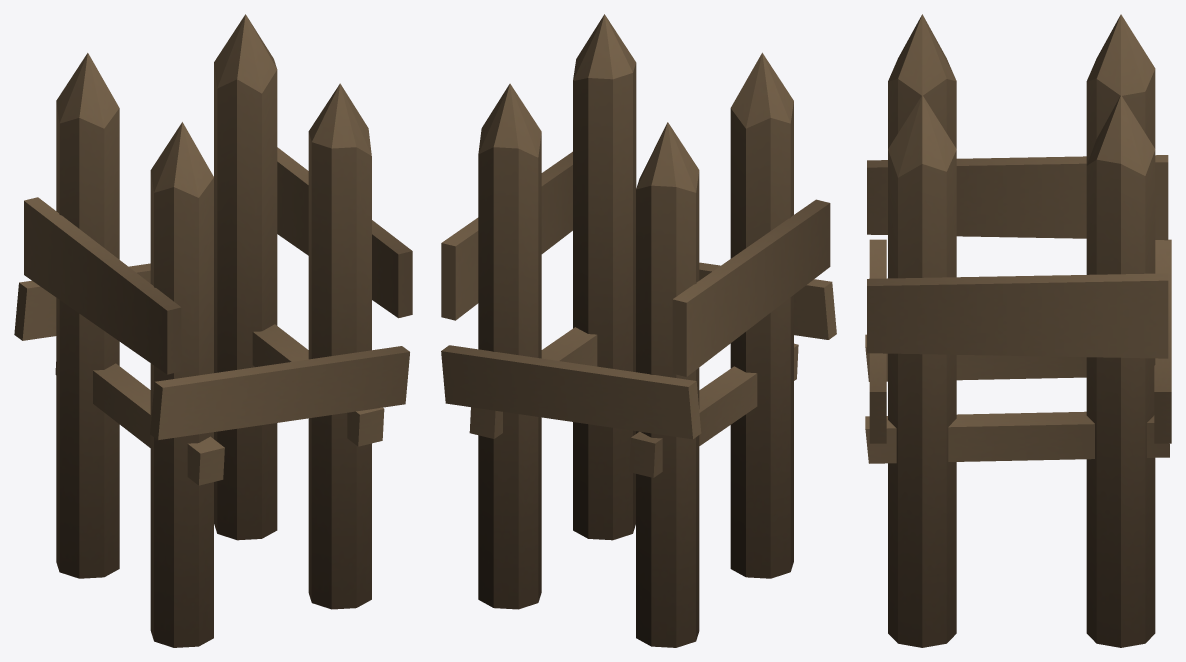
Rendered from ZLP_Build_D_24.FBX.
3 renders of one model, left to right at view 1: azimuth 30°, elevation 25°; view 2: azimuth 150°, elevation 25°; view 3: azimuth 270°, elevation 25°, orthographic. The views are drawn at different scales.
Parts seen in each view (by area): view 1: ZLP_Build_D_24; view 2: ZLP_Build_D_24; view 3: ZLP_Build_D_24.
Part boxes in pixels (x1,y1,x2,y2): ZLP_Build_D_24: [14, 14, 412, 647]; ZLP_Build_D_24: [441, 14, 836, 647]; ZLP_Build_D_24: [865, 14, 1171, 647].
Size of the model in its own units: 40.12 by 77.66 by 40.01.
